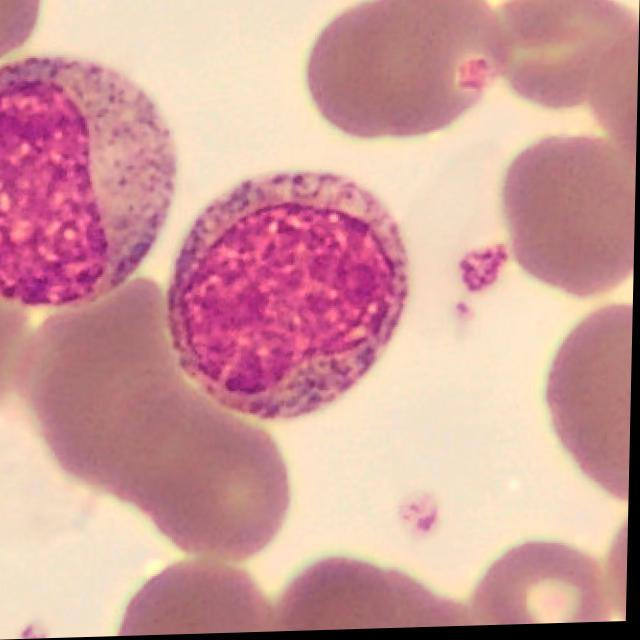Metamielocito: (169, 173, 411, 423)
Mielocito: (0, 56, 179, 310)
